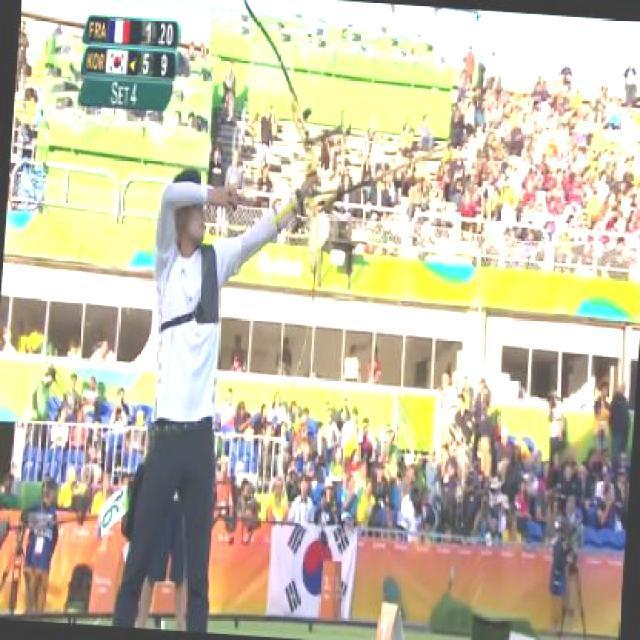non-fight: (122, 162, 248, 633)
